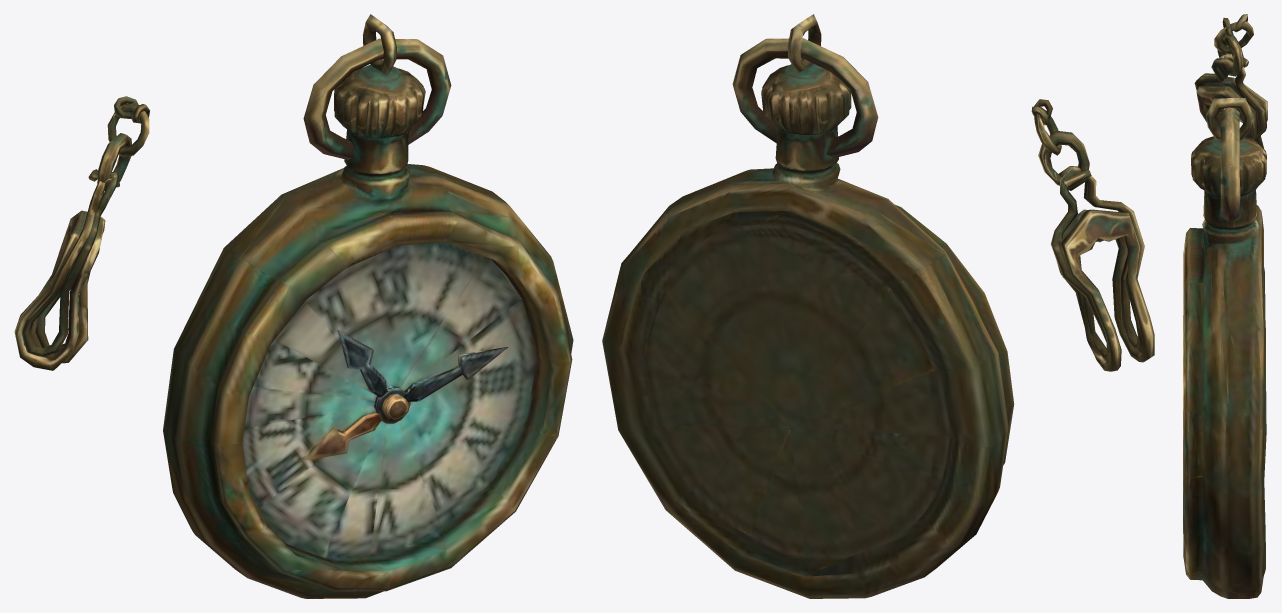
The model's file is borrowed_moment.glb.
The picture shows the model from 3 angles, left to right: view 1: azimuth 30°, elevation 25°; view 2: azimuth 150°, elevation 25°; view 3: azimuth 270°, elevation 25°; orthographic projection. The views are drawn at different scales.
Visible parts, largest first — view 1: Mesh_0; view 2: Mesh_0; view 3: Mesh_0.
Boxes of the visible parts, left/top/right/bottom form: Mesh_0: left=14, top=14, right=573, bottom=598; Mesh_0: left=602, top=14, right=1154, bottom=598; Mesh_0: left=1183, top=14, right=1267, bottom=598.
Bounding box in the file's own units: 1 × 0.9944 × 0.1571.
1 material, 1 textured.
